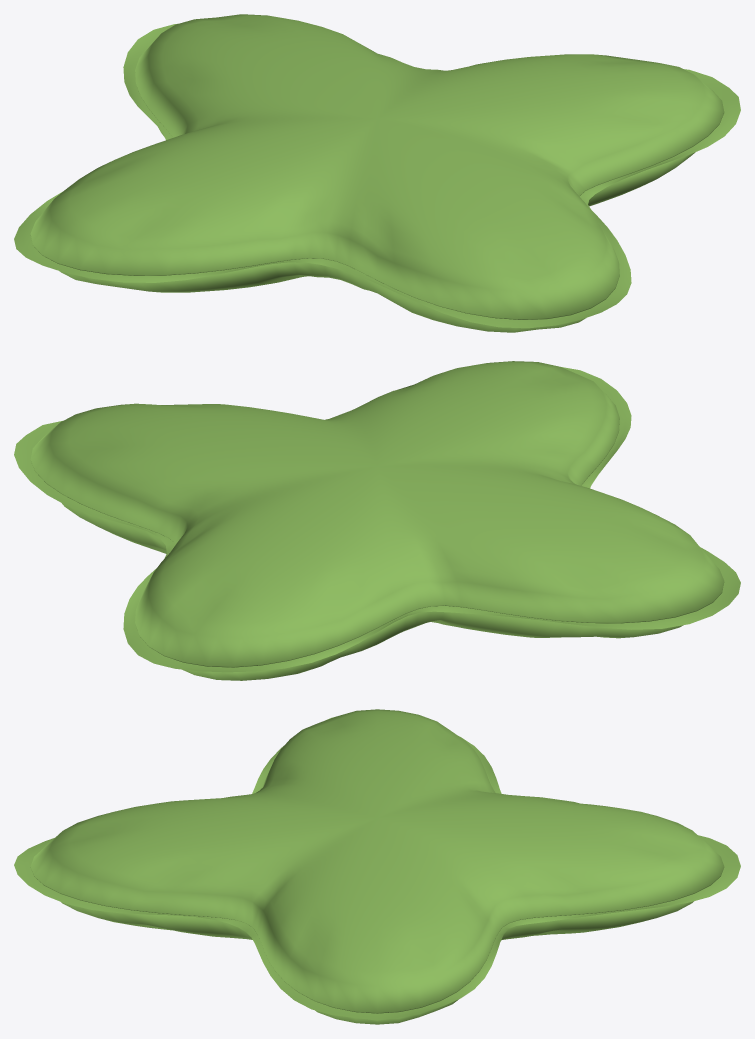
File: spark.glb
The picture shows the model from 3 angles, top to bottom: view 1: azimuth 30°, elevation 25°; view 2: azimuth 150°, elevation 25°; view 3: azimuth 270°, elevation 25°; orthographic projection. The views are drawn at different scales.
Visible parts, largest first — view 1: spark, spark weld; view 2: spark, spark weld; view 3: spark, spark weld.
Boxes of the visible parts, box(x1,y1,x2,y2) form: spark: box(30, 14, 724, 332); spark weld: box(14, 23, 740, 328); spark: box(30, 361, 724, 680); spark weld: box(14, 367, 740, 672); spark: box(30, 709, 724, 1024); spark weld: box(14, 717, 740, 1020).
Size of the model in its own units: 1.89 by 0.28 by 1.89.
